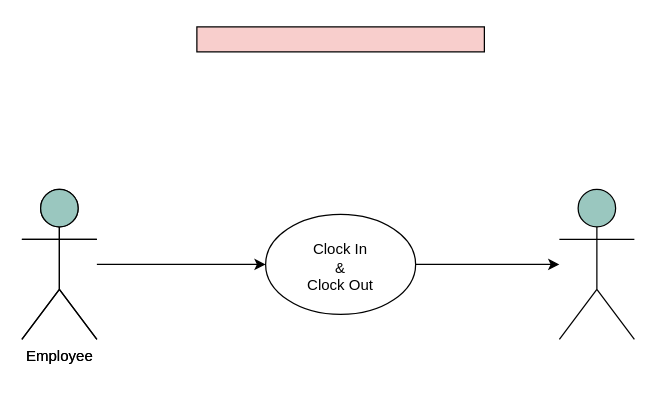
The diagram is 661 pixels wide and 406 high, and some of its shapes have lost their labels. The shapes that lost their labels are listed below. From the top down, each one's centre as x and y in pixels, then its label:
the point at 340,39: Employee Use Case
the point at 596,263: BBH System
